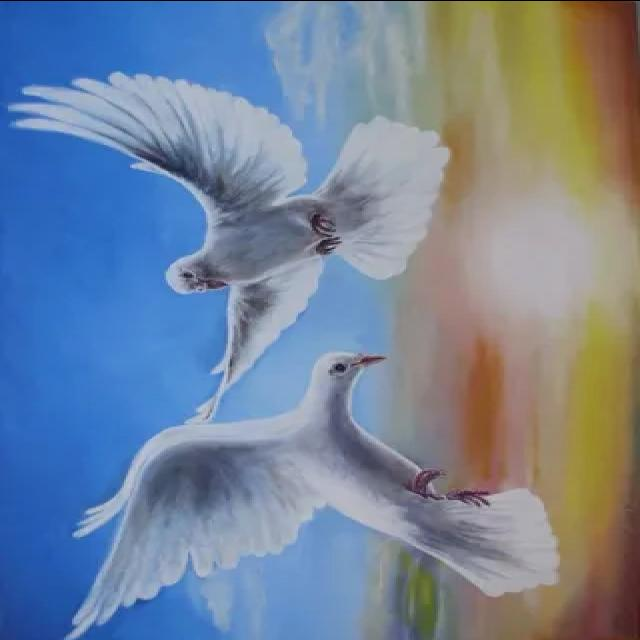pigeon: (12, 44, 468, 381)
